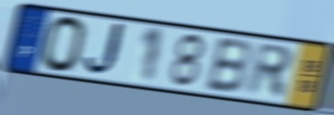1: (138, 26, 163, 86)
8: (169, 32, 207, 90)
B: (203, 37, 253, 96)
J: (82, 20, 132, 78)
O: (38, 14, 89, 75)
R: (244, 40, 295, 102)
